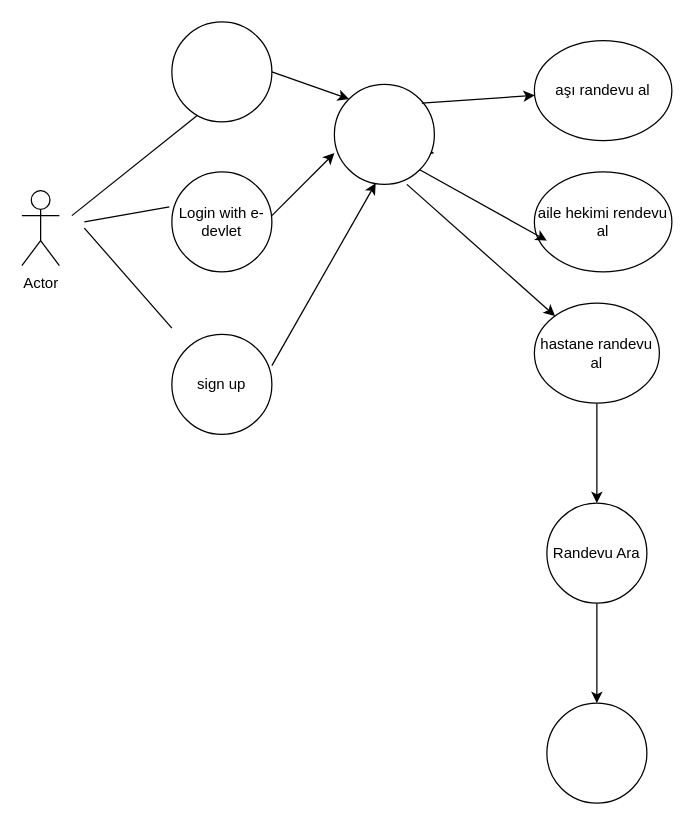
This 694x825 diagram has some shape labels left out. The box of each missing label's shape, as (x1, y1, x2, y2) in pixels:
hasta bilgileri: (546, 702, 647, 803)
Login: (171, 21, 272, 122)
use and password: (333, 83, 434, 184)
